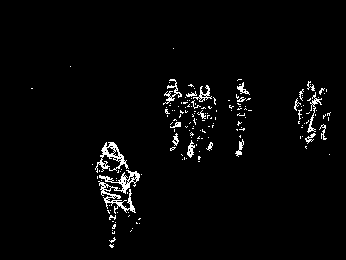person: (94, 139, 140, 248), (162, 76, 184, 152), (230, 77, 250, 157), (294, 78, 316, 144), (197, 83, 217, 154), (182, 83, 199, 162), (315, 86, 331, 143)
